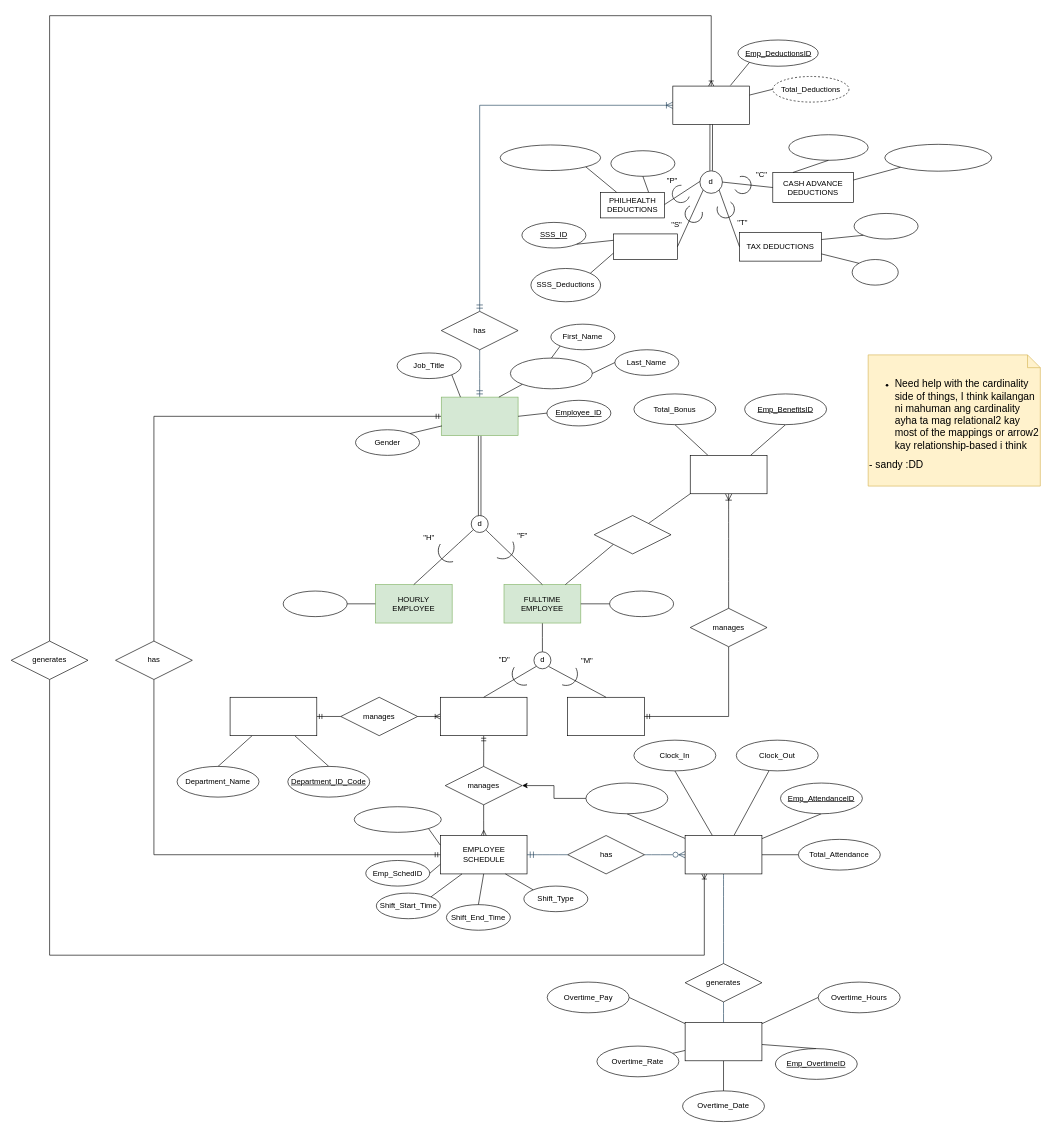
The diagram is 1052 pixels wide and 1133 high, and some of its shapes have lost their labels. The centre of each missing label's shape, as x and y in pixels:
"(Employee_Name)" goes at (x=551, y=373).
"CA_ID" goes at (x=828, y=147).
"CashAdvance_Deductions" goes at (x=938, y=157).
"Date_of_Attendance" goes at (x=626, y=798).
"DEPARTMENT" goes at (x=273, y=716).
"DEPARTMENT HEAD" goes at (x=483, y=716).
"Emp_Schedule_ID" goes at (x=397, y=819).
"EMPLOYEE" goes at (x=479, y=416).
"EMPLOYEE OVERTIME" goes at (x=723, y=1041).
"EMPLOYEE'S ATTENDANCE" goes at (x=723, y=854).
"EMPLOYEE'S BENEFITS" goes at (x=728, y=474).
"EMPLOYEE'S DEDUCTION CATEGORIES" goes at (x=711, y=104).
"Fulltime_Rate" goes at (x=641, y=603).
"Hourly_Rate" goes at (x=315, y=603).
"MANAGER" goes at (x=605, y=716).
"PhilHealth_Deductions" goes at (x=550, y=157).
"PhilHealth_ID" goes at (x=642, y=163).
"receives" goes at (x=632, y=534).
"SSS DEDUCTIONS" goes at (x=645, y=246).
"Tax_Deductions" goes at (x=885, y=226).
"TIN" goes at (x=875, y=272).
